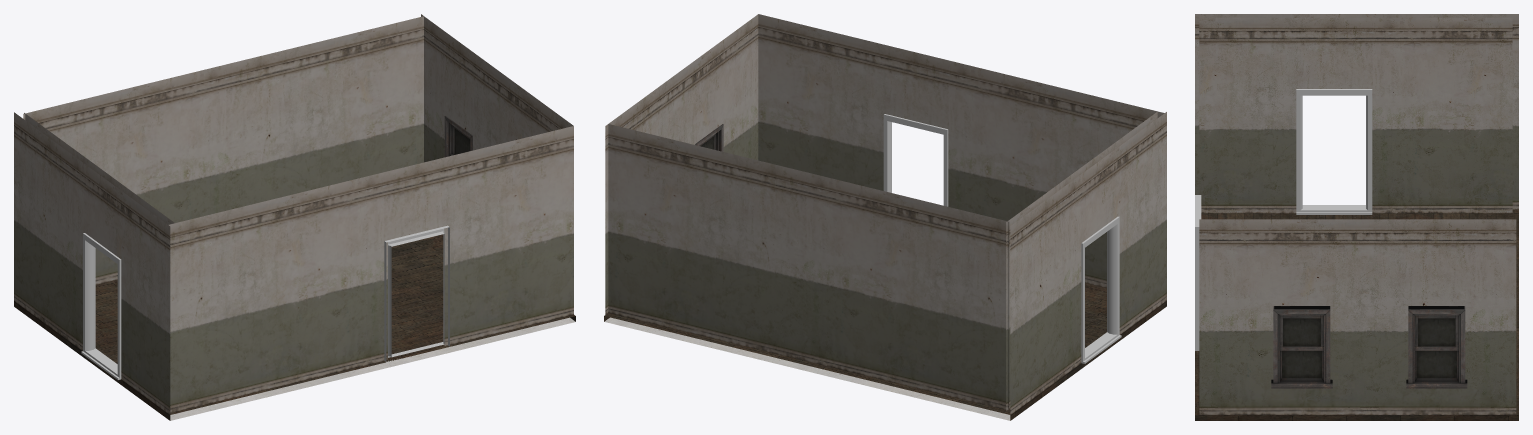
Rendered from room_windows_6m_x_9m_door_right.fbx.
3 renders of one model, left to right at view 1: azimuth 30°, elevation 25°; view 2: azimuth 150°, elevation 25°; view 3: azimuth 270°, elevation 25°, orthographic. The views are drawn at different scales.
Visible parts, largest first — view 1: room_windows_6m_x_9m_door_right; view 2: room_windows_6m_x_9m_door_right; view 3: room_windows_6m_x_9m_door_right.
Part boxes in pixels (left/top/right/bottom): room_windows_6m_x_9m_door_right: left=14, top=14, right=575, bottom=420; room_windows_6m_x_9m_door_right: left=604, top=14, right=1166, bottom=420; room_windows_6m_x_9m_door_right: left=1195, top=14, right=1518, bottom=420.
Size of the model in its own units: 930 by 412 by 600.
